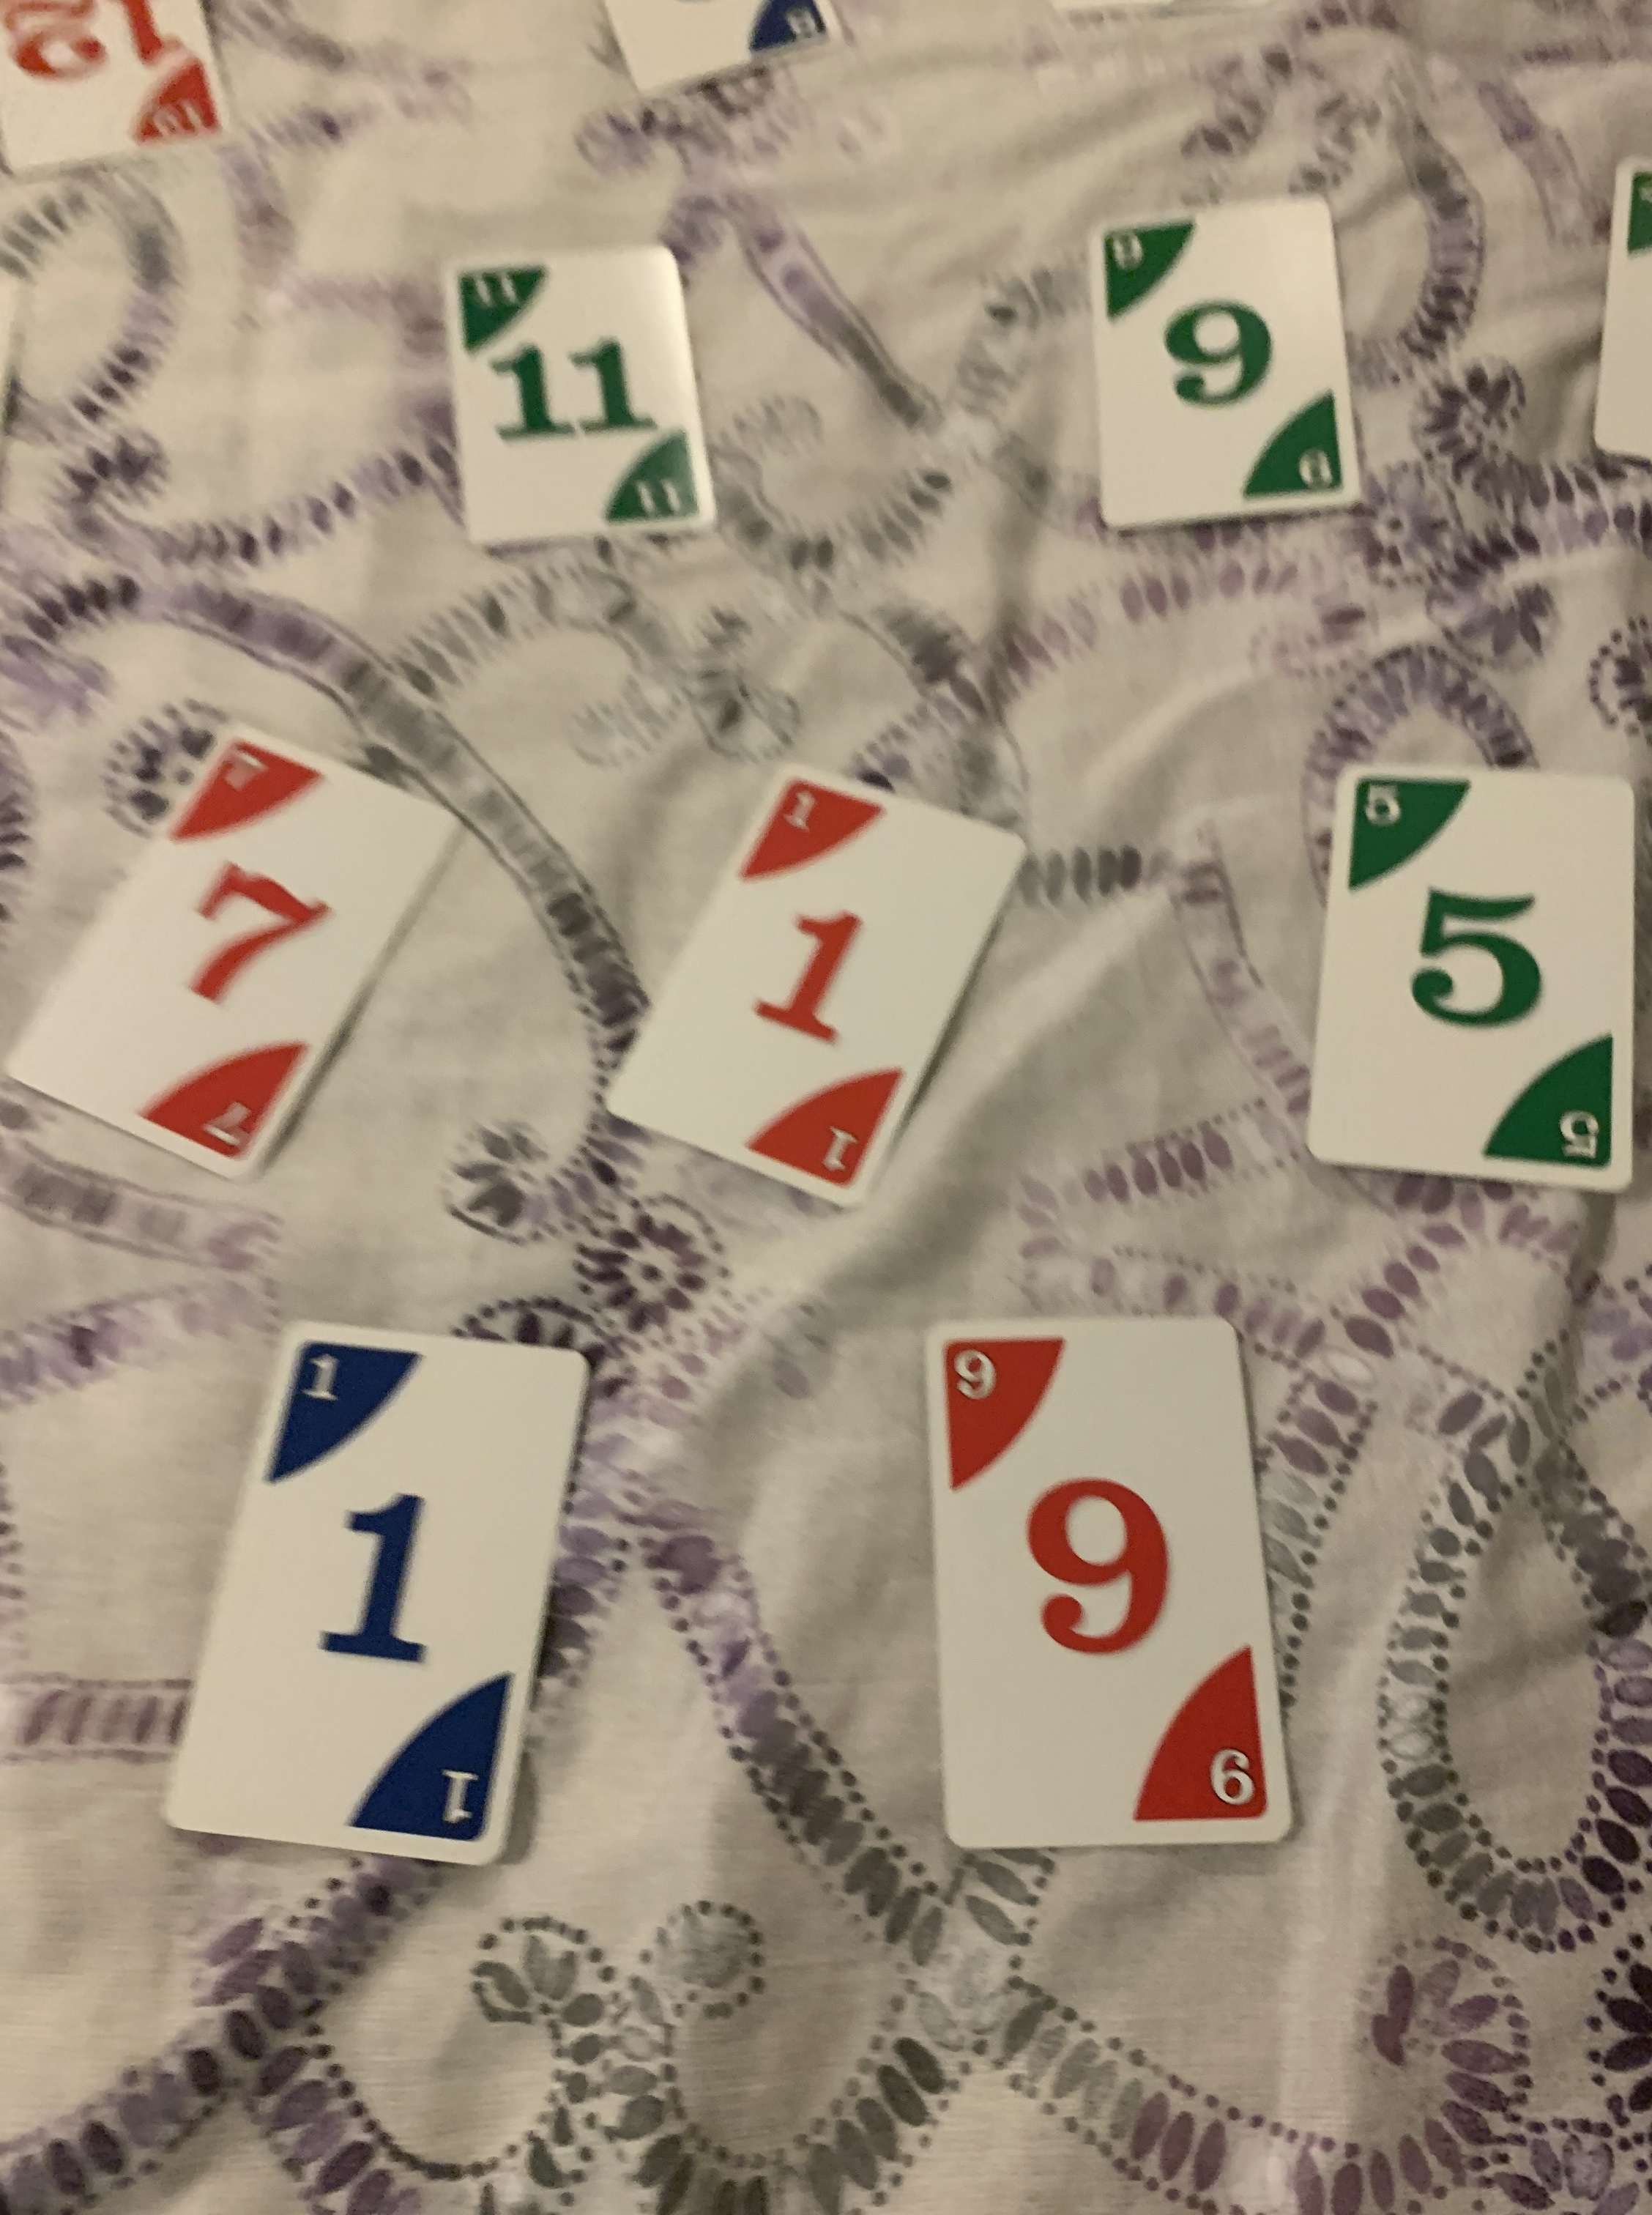eleven: (432, 236, 715, 552)
five: (1301, 759, 1642, 1203)
nine: (904, 1309, 1300, 1856), (1072, 193, 1367, 529)
one: (163, 1318, 593, 1877), (592, 767, 1032, 1210)
seven: (5, 717, 465, 1180)
